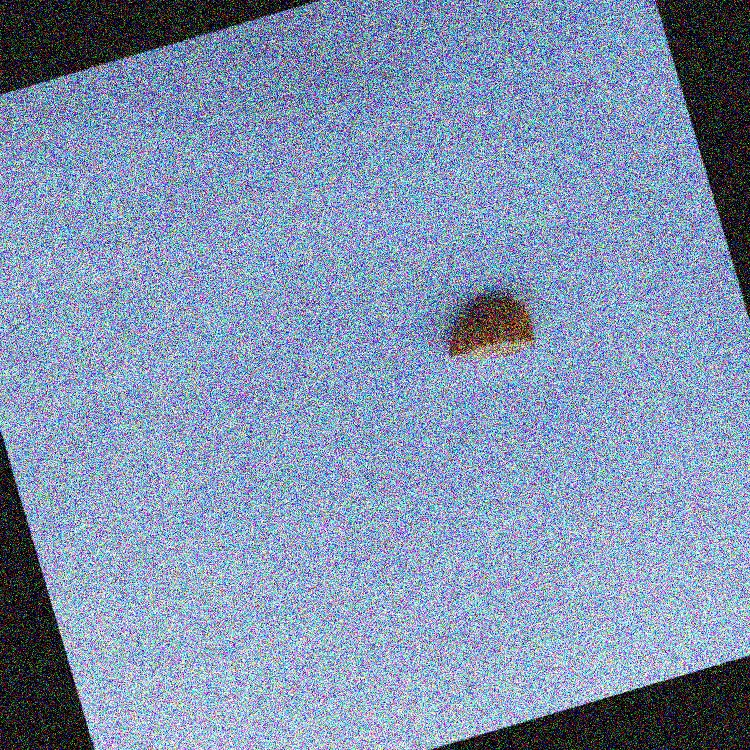grade4: (425, 279, 548, 379)
